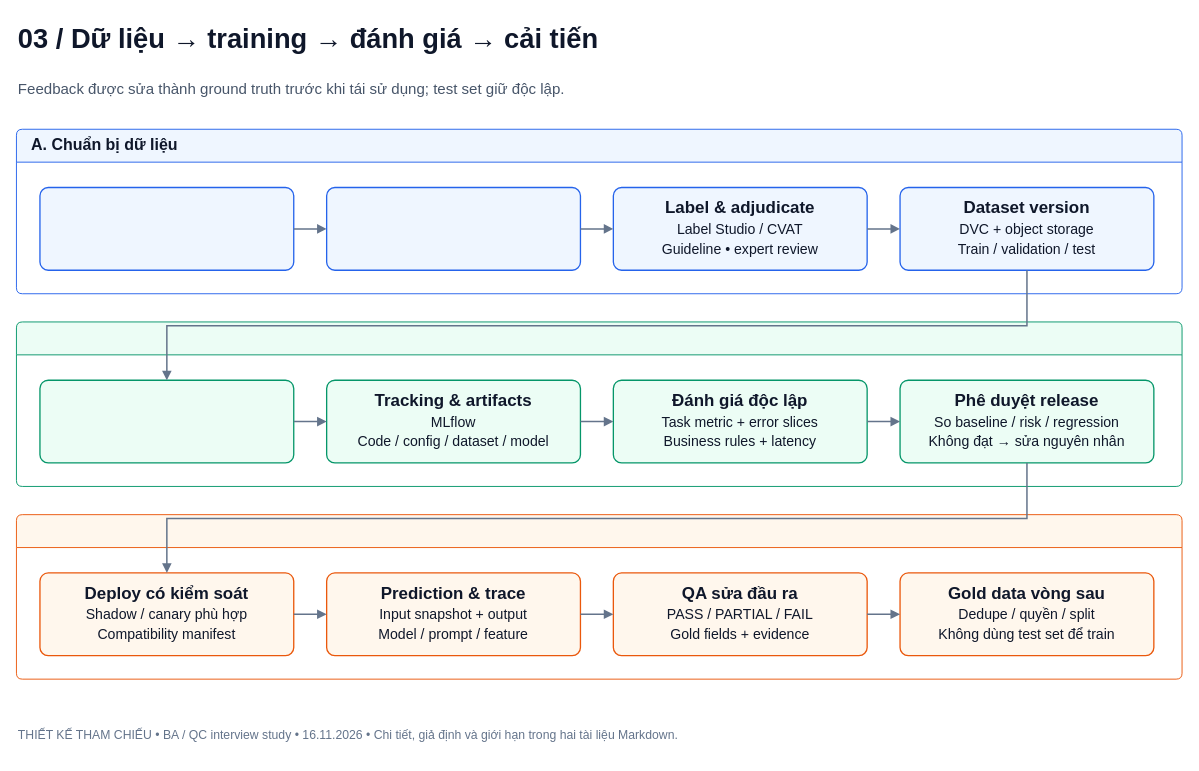
The diagram is 1199 pixels wide and 771 high, and some of its shapes have lost their labels. Here are the shapes that lost their labels. From the top down, the box of each, then its label:
(39, 186, 294, 270): Nguồn có quyền dùng HR / hội thoại / ảnh / tài liệu
(326, 186, 581, 270): Snapshot bất biến SQL / pandas / data checks Schema • cutoff • provenance
(39, 379, 294, 463): Train / fine-tune XGBoost hoặc PyTorch Transformers / PEFT LoRA
(16, 321, 1182, 486): B. Candidate và quality gate
(16, 514, 1182, 679): C. Vận hành và feedback
